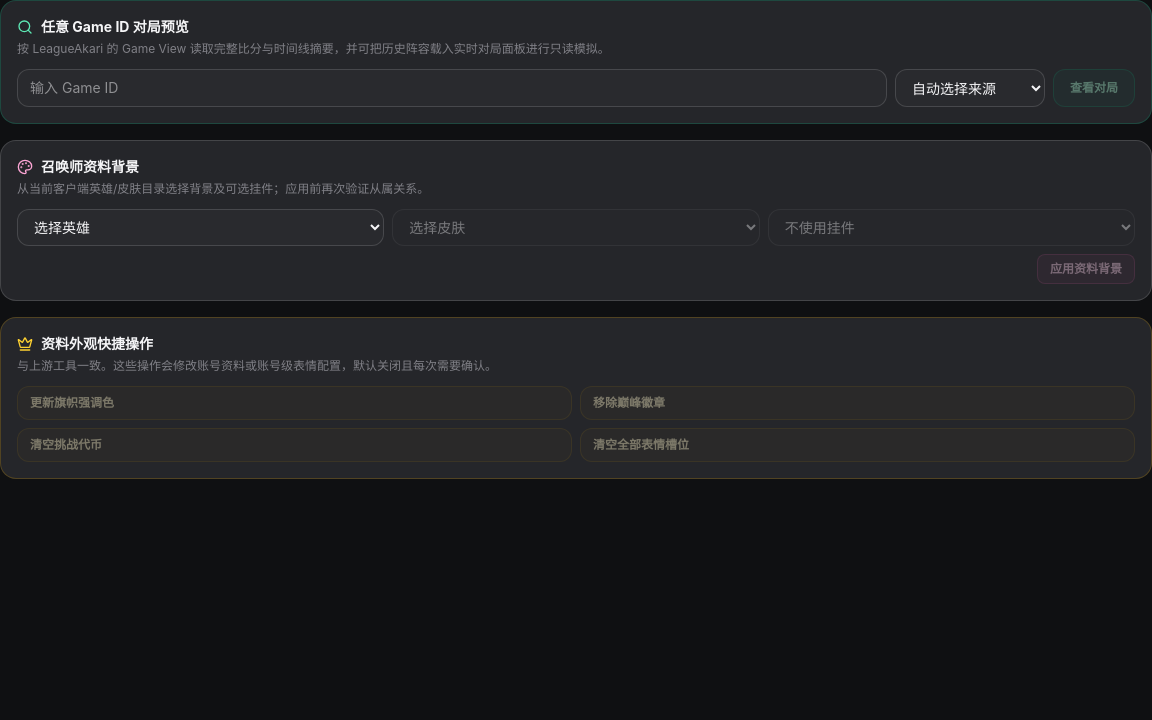
LeagueAdvancedToolkit › keeps an inline error when full details cannot be loaded
This screenshot has width=1152, height=720.
Expected: the heading "任意 Game ID 对局预览" is shown, [41,17,189,37]
Type "123" into the field labelled "Game ID".
click(452, 88); type("123")  # box [17,69,887,107]
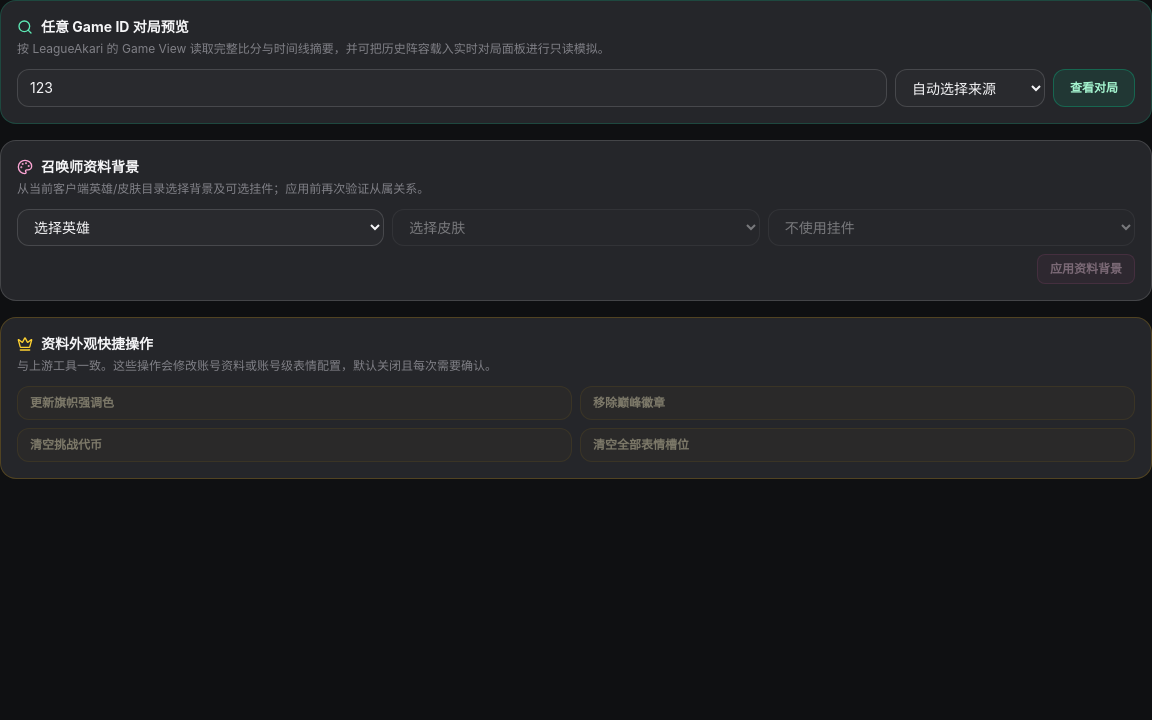
Click the button "查看对局".
click(1094, 88)  # box [1053,69,1135,107]
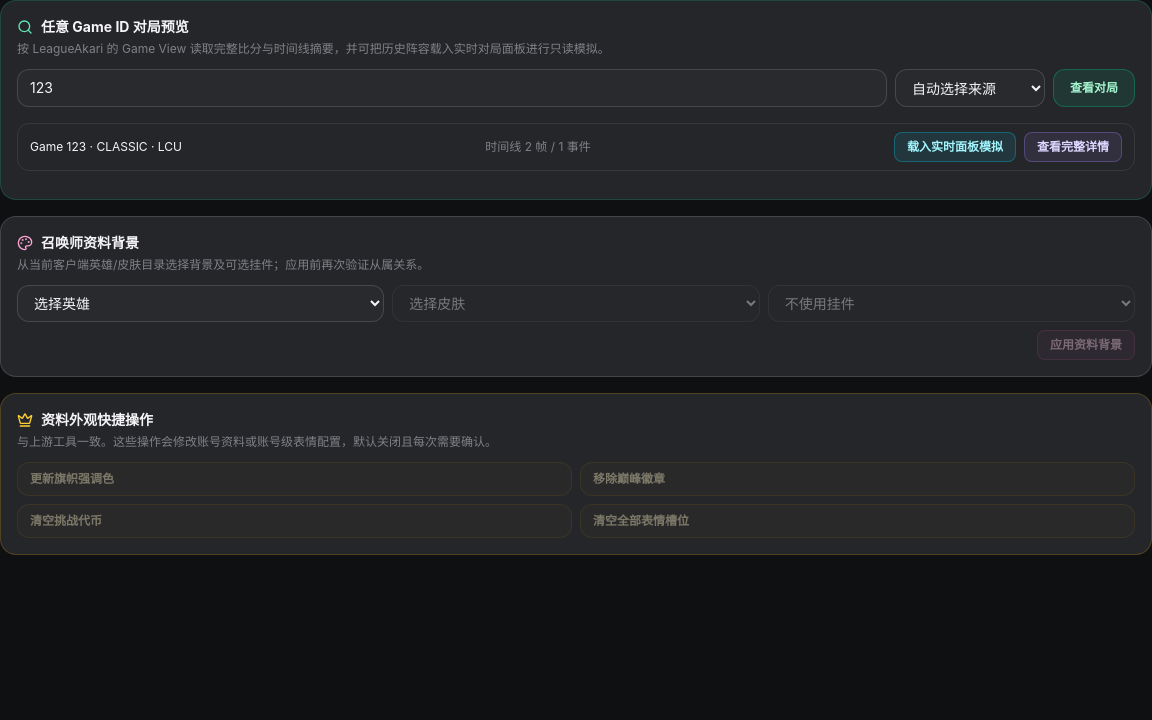
Click the button "查看完整详情".
click(1073, 147)  # box [1024,132,1122,162]
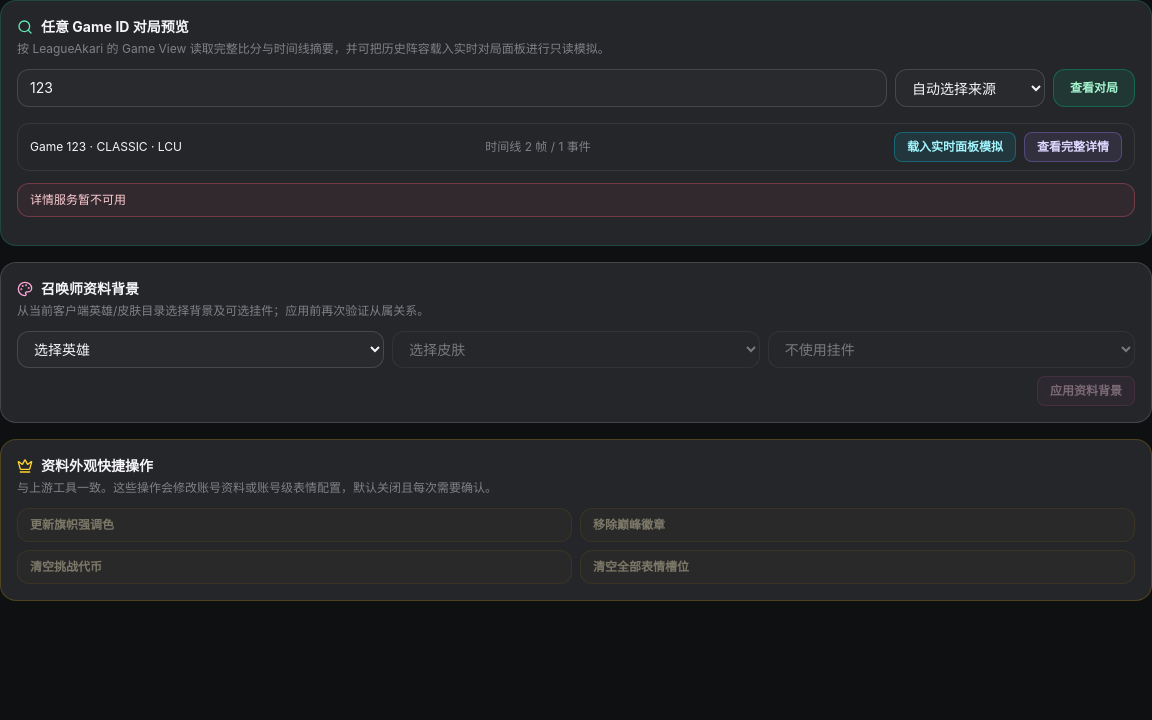
Result: the message reads "详情服务暂不可用" at [30,192,126,207]
